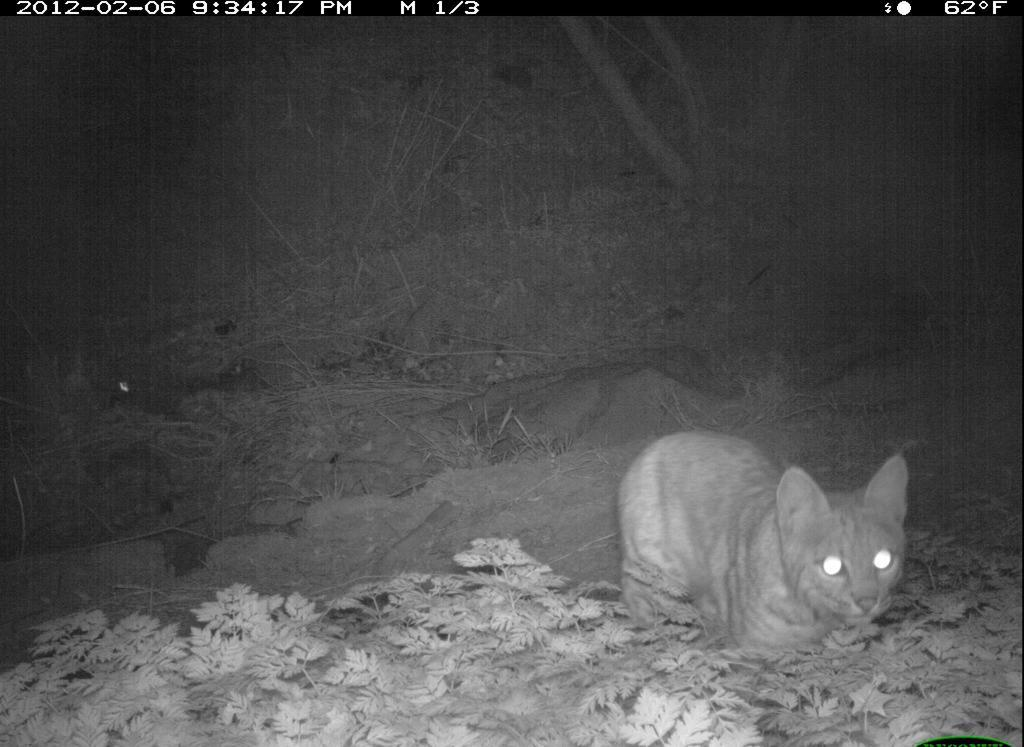bobcat: (610, 422, 922, 665)
